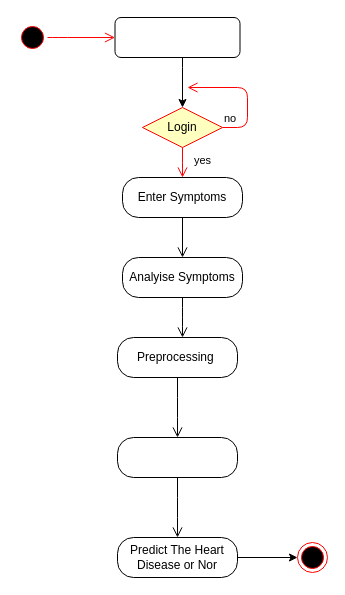
Image size: 345x595. Some labels were removed from this diagram. Here are the shapes that lost their labels. From the top down, the box of each, then its label:
(114, 16, 240, 58): Registraction
(116, 436, 238, 478): Classify
